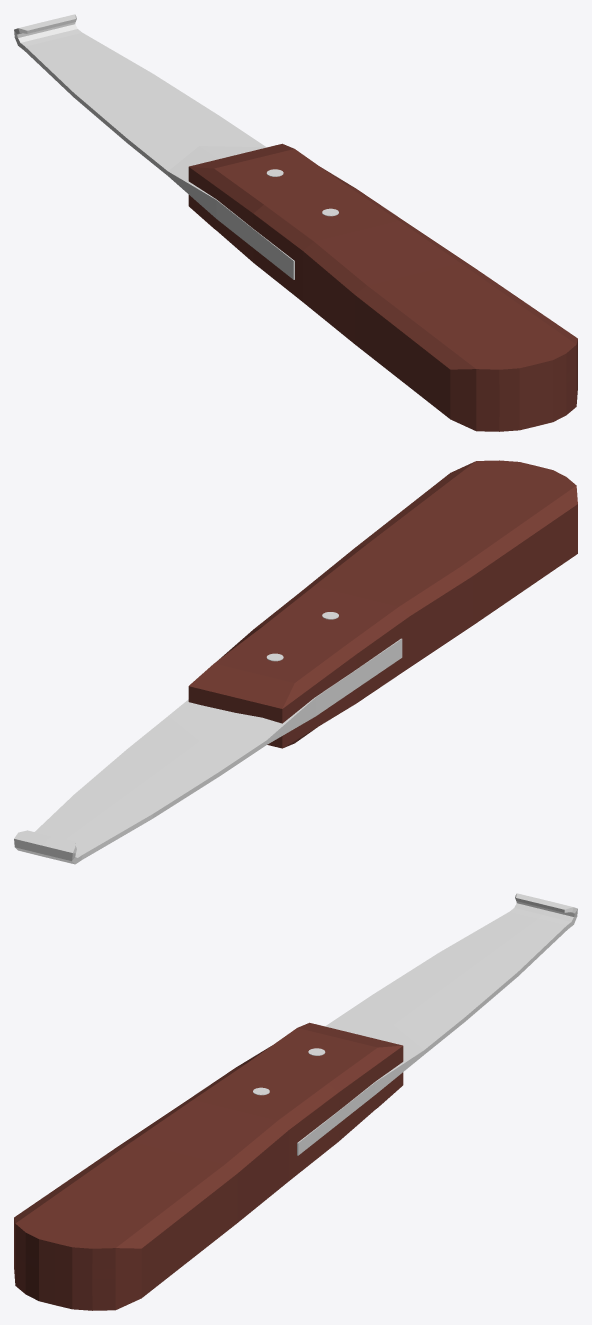
Rendered from at.foot-picak.v1.fbx.
3 views of the same model, one above another, from view 1: azimuth 30°, elevation 25°; view 2: azimuth 150°, elevation 25°; view 3: azimuth 330°, elevation 25° (orthographic).
Parts seen in each view (by area): view 1: Horse.Picak; view 2: Horse.Picak; view 3: Horse.Picak.
Boxes of the visible parts, box(x1,y1,x2,y2) form: Horse.Picak: box(14, 14, 577, 431); Horse.Picak: box(14, 460, 577, 864); Horse.Picak: box(14, 893, 577, 1310).
Size of the model in its own units: 0.0346 by 0.0168 by 0.2319.
